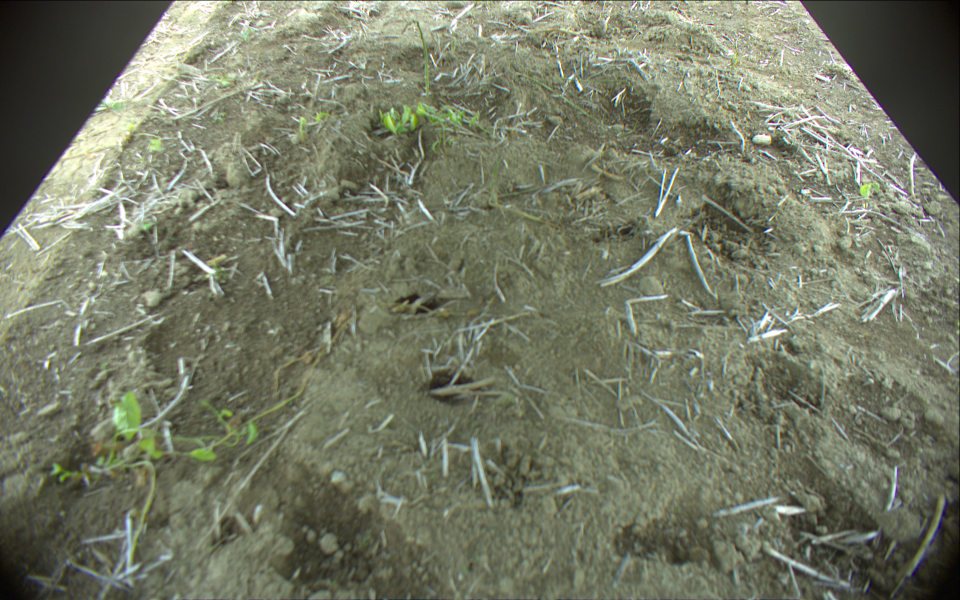aspa: (401, 19, 432, 94)
